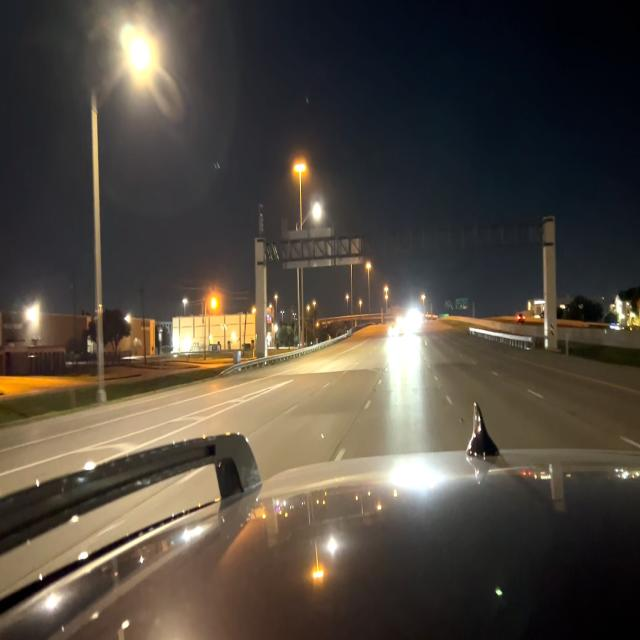back-of-sign: (282, 230, 363, 268)
